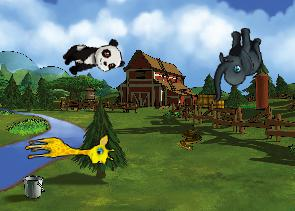elephant: (203, 25, 268, 102)
giraffe: (24, 133, 115, 170)
panda: (60, 37, 125, 79)
